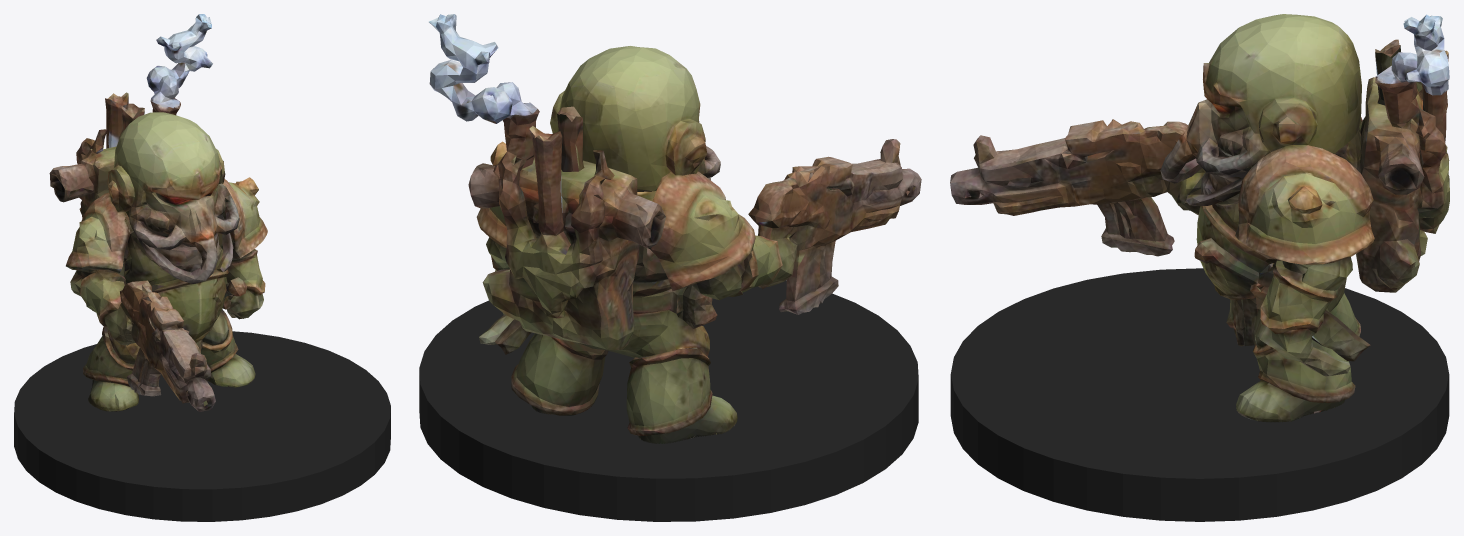
The model's file is plague-marine.glb.
The picture shows the model from 3 angles, left to right: view 1: azimuth 30°, elevation 25°; view 2: azimuth 150°, elevation 25°; view 3: azimuth 270°, elevation 25°; orthographic projection. The views are drawn at different scales.
Parts seen in each view (by area): view 1: figure, base; view 2: figure, base; view 3: figure, base.
Part boxes in pixels (box(x1,y1,x2,y2)): figure: box(49, 14, 267, 411); base: box(14, 331, 390, 521); figure: box(429, 14, 921, 443); base: box(419, 280, 918, 521); figure: box(950, 14, 1449, 422); base: box(950, 268, 1449, 521).
Size of the model in its own units: 1.26 by 1.27 by 1.26.
Materials: 2 (1 with a texture image).
